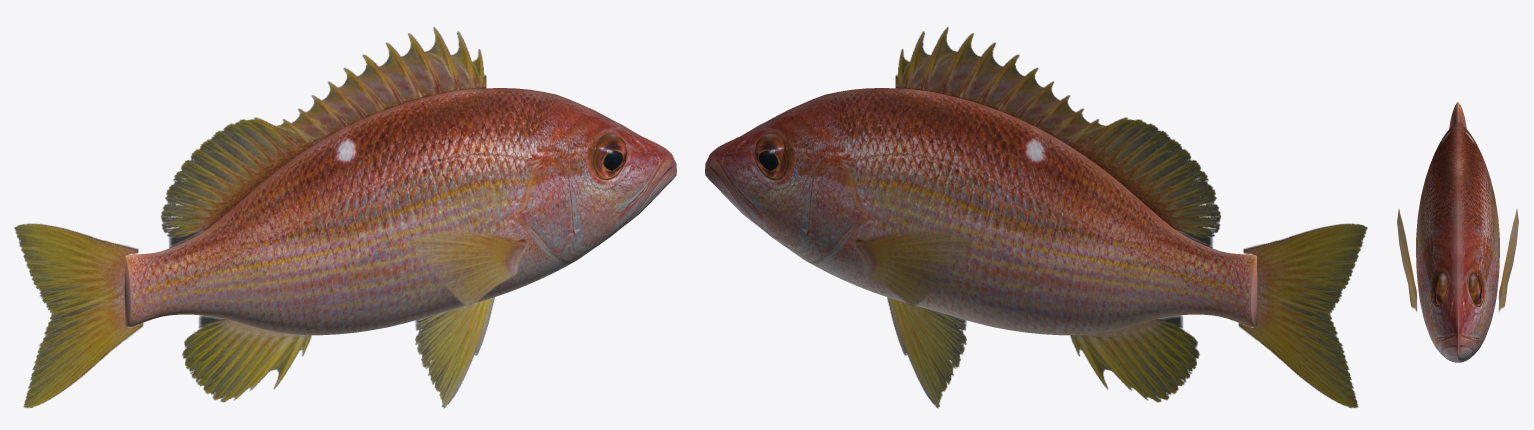
Rendered from shibudai.glb.
The picture shows the model from 3 angles, left to right: view 1: azimuth 30°, elevation 25°; view 2: azimuth 150°, elevation 25°; view 3: azimuth 270°, elevation 25°; orthographic projection. The views are drawn at different scales.
Parts seen in each view (by area): view 1: shibudai; view 2: shibudai; view 3: shibudai.
Part boxes in pixels (x1,y1,x2,y2): shibudai: (14,27,676,408); shibudai: (705,27,1367,408); shibudai: (1397,102,1518,362).
Bounding box in the file's own units: 0.4006 × 0.2221 × 0.0817.
1 material, 1 textured.
